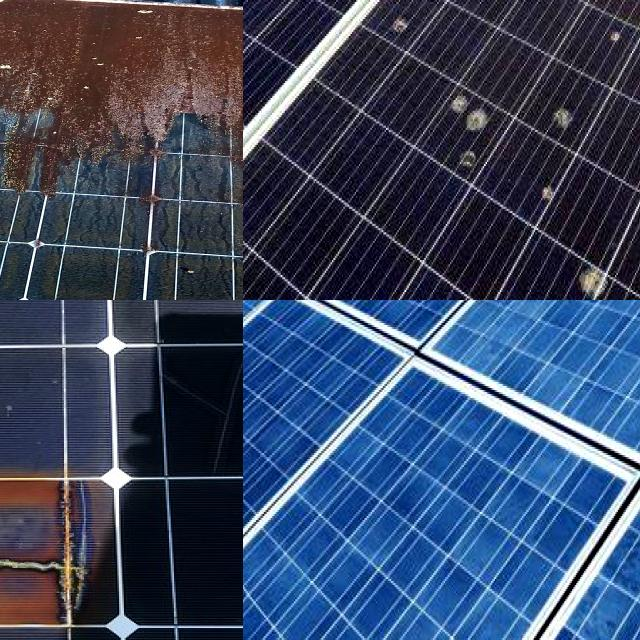bird: (446, 88, 491, 182), (574, 262, 620, 300), (334, 0, 380, 28), (387, 6, 424, 38), (310, 0, 369, 18), (536, 172, 565, 208), (551, 106, 582, 138), (604, 24, 632, 52), (486, 0, 529, 15), (262, 0, 293, 19), (359, 0, 385, 18), (433, 0, 454, 21), (574, 0, 598, 13)
crack: (243, 345, 640, 640), (243, 300, 428, 640), (283, 300, 640, 435), (243, 300, 370, 530), (243, 300, 486, 377)
dust: (0, 0, 116, 247), (135, 6, 243, 256), (0, 0, 67, 222)
shadow: (0, 462, 108, 640)
